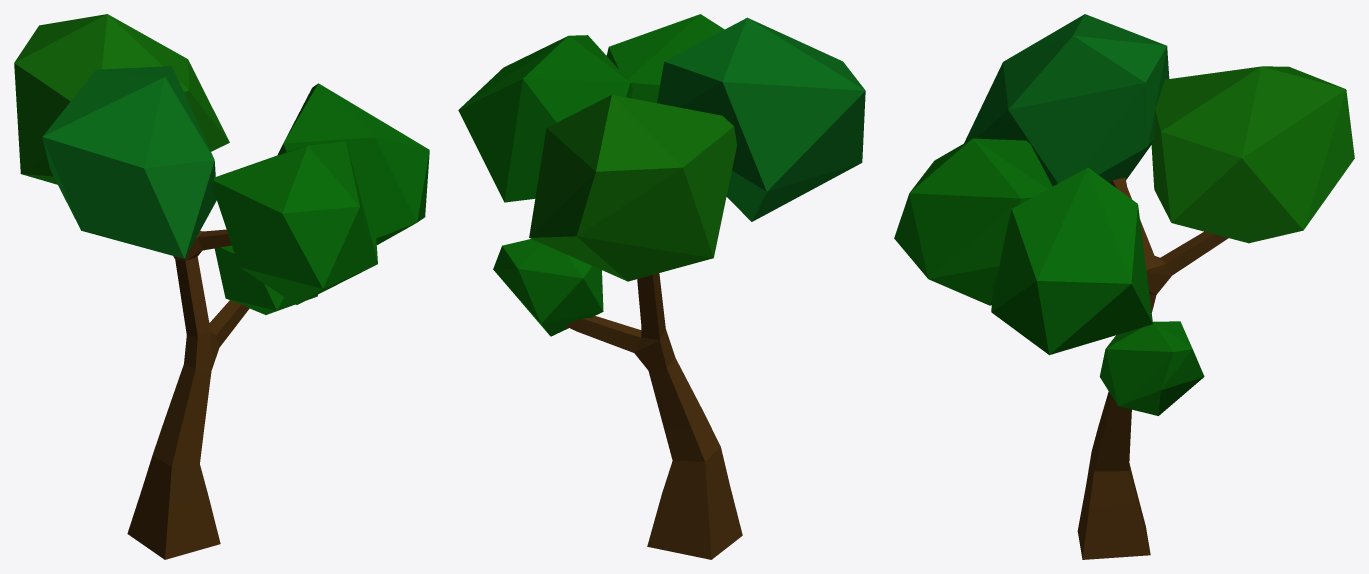
The model's file is drz.fbx.
3 views of the same model, side by side, from view 1: azimuth 30°, elevation 25°; view 2: azimuth 150°, elevation 25°; view 3: azimuth 270°, elevation 25° (orthographic). The views are drawn at different scales.
Visible parts, largest first — view 1: Kula ico.003, Kula ico.001, Kostka, Kula ico.004, Kula ico.002, Kula ico; view 2: Kula ico.004, Kula ico.003, Kostka, Kula ico.002, Kula ico, Kula ico.001; view 3: Kula ico.004, Kula ico.003, Kula ico.002, Kula ico.001, Kostka, Kula ico.
Part boxes in pixels (x1,y1,x2,y2): Kula ico.003: (42,66,216,258); Kula ico.001: (212,141,377,304); Kostka: (127,229,249,559); Kula ico.004: (14,14,229,184); Kula ico.002: (277,83,429,244); Kula ico: (214,245,317,314); Kula ico.004: (529,94,736,281); Kula ico.003: (657,17,865,221); Kostka: (564,273,742,559); Kula ico.002: (458,35,632,202); Kula ico: (493,239,603,336); Kula ico.001: (606,14,724,103); Kula ico.004: (1151,66,1354,243); Kula ico.003: (964,14,1169,186); Kula ico.002: (991,167,1152,354); Kula ico.001: (894,138,1052,305); Kostka: (1077,177,1228,559); Kula ico: (1099,321,1204,415).
Size of the model in its own units: 613 by 778 by 657.
